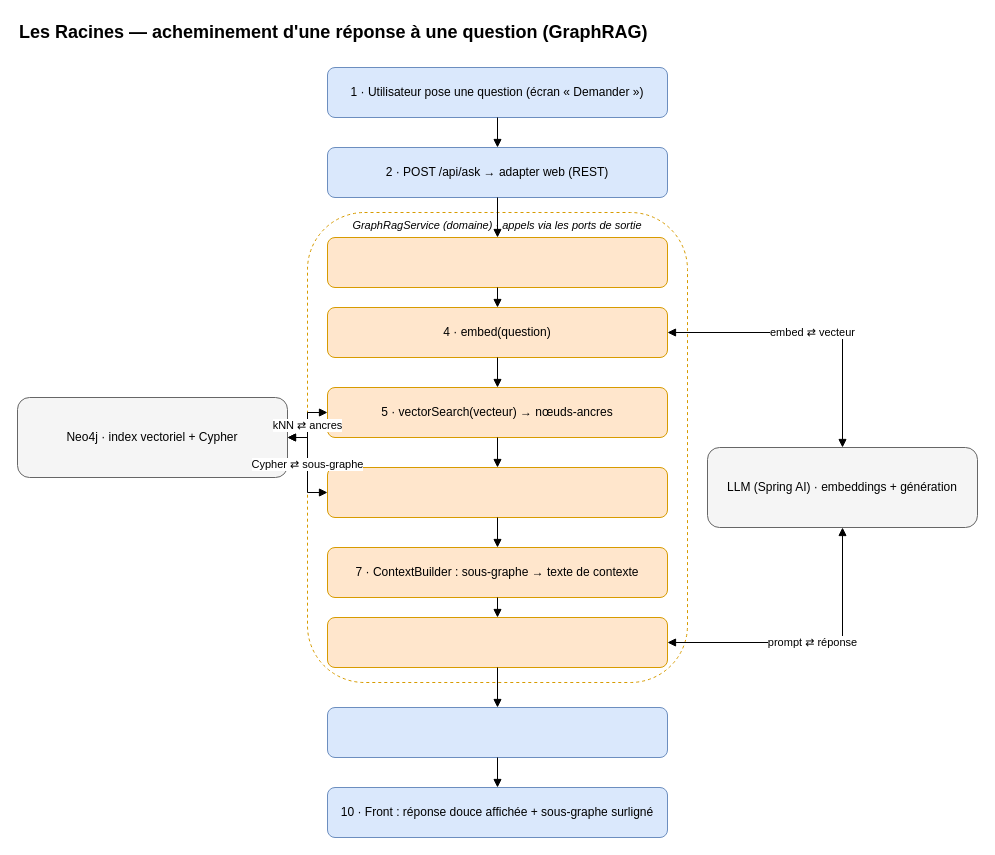
The diagram is 995 pixels wide and 855 high, and some of its shapes have lost their labels. The centre of each missing label's shape, as x and y in pixels:
3 · AskQuestion → GraphRagService (domaine): the point at 497,262
6 · traverse(ancres, 2-3 sauts) → sous-graphe: the point at 497,492
8 · generate(ton doux, contexte, question): the point at 497,642
9 · Answer{réponse, sous-graphe} → DTO JSON: the point at 497,732
